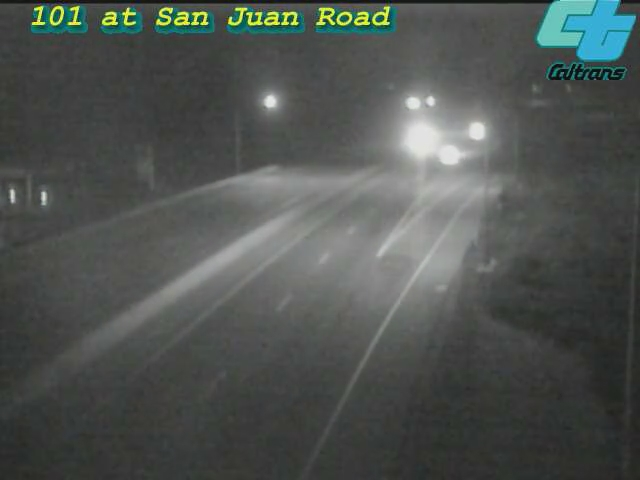vehicle: (396, 112, 446, 162), (446, 105, 496, 155), (428, 129, 478, 179)
